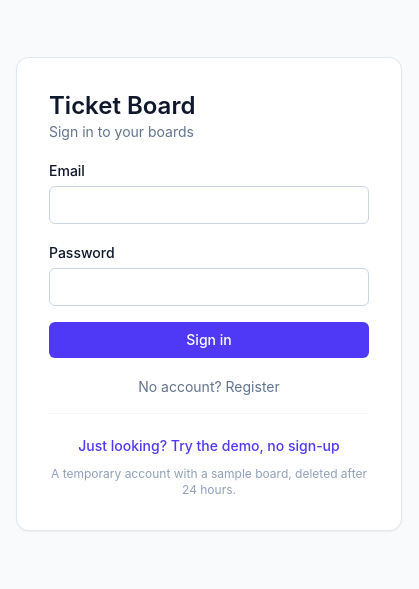
LoginPage › switches to the register form
Expected: the field labelled "Name" is not shown
Click the button "No account? Register": (209, 387) x1=49 y1=377 x2=369 y2=397
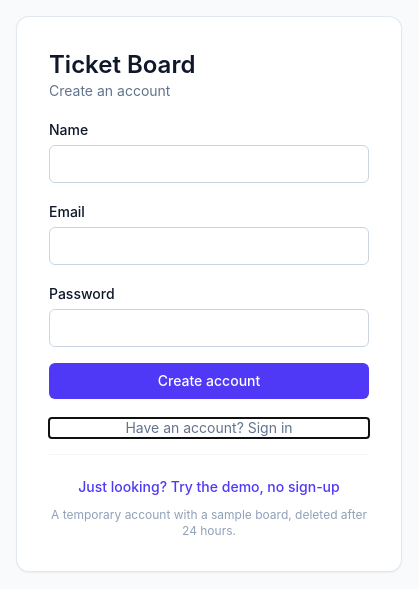
Expected: the field labelled "Name" is shown, x1=49 y1=145 x2=369 y2=183
Expected: the button "Create account" is shown, x1=49 y1=363 x2=369 y2=399
